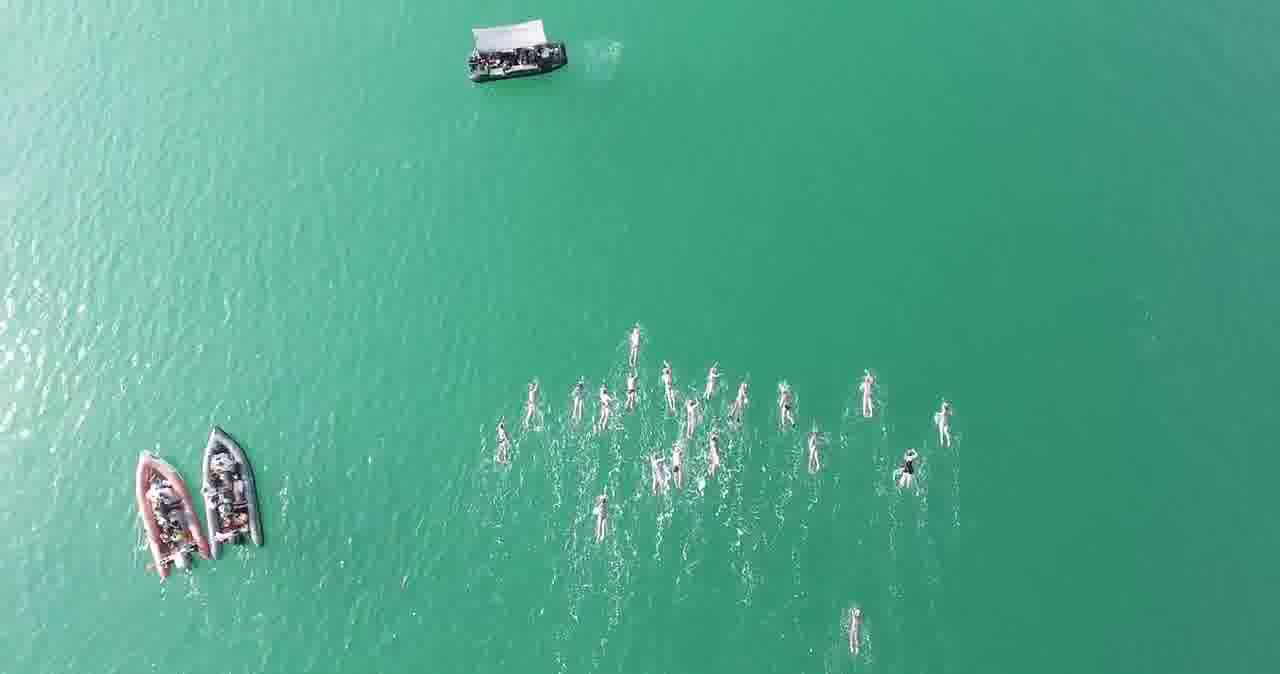human: (584, 489, 611, 540), (521, 372, 543, 430), (935, 386, 953, 450), (856, 364, 876, 418), (735, 370, 753, 426), (805, 427, 824, 478), (844, 597, 862, 648), (490, 412, 508, 462), (899, 439, 917, 488), (703, 359, 721, 408), (776, 374, 796, 418), (708, 435, 727, 481), (645, 448, 666, 489), (626, 319, 645, 363), (620, 372, 639, 412), (671, 444, 690, 482), (598, 381, 614, 422), (661, 364, 679, 400), (687, 393, 700, 441), (571, 378, 582, 422)
